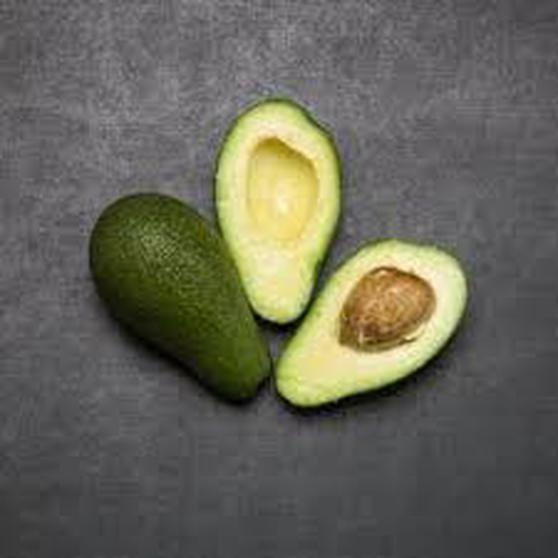avocado: (76, 191, 279, 433)
